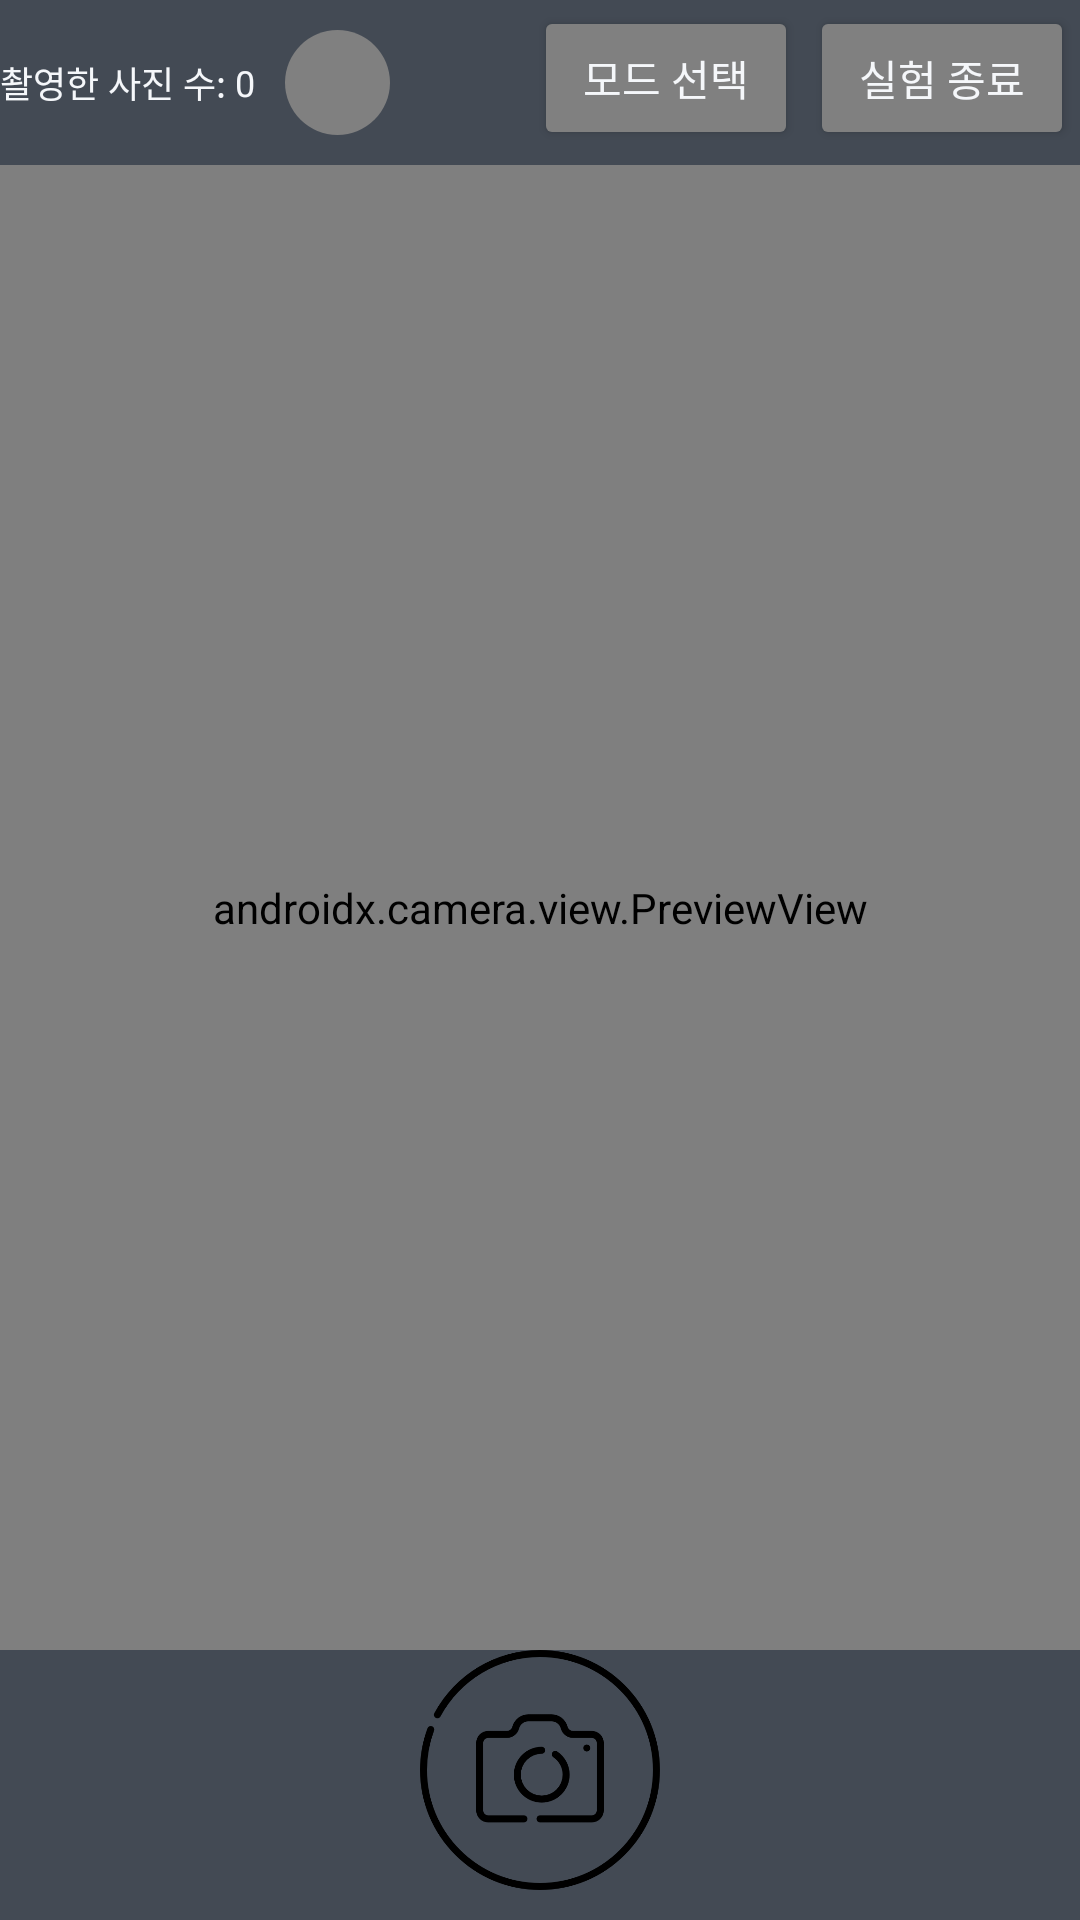

Icons on this 1080×1920 Android screen, each with the point to tap as (x,y):
camera no click: (540,1770)
